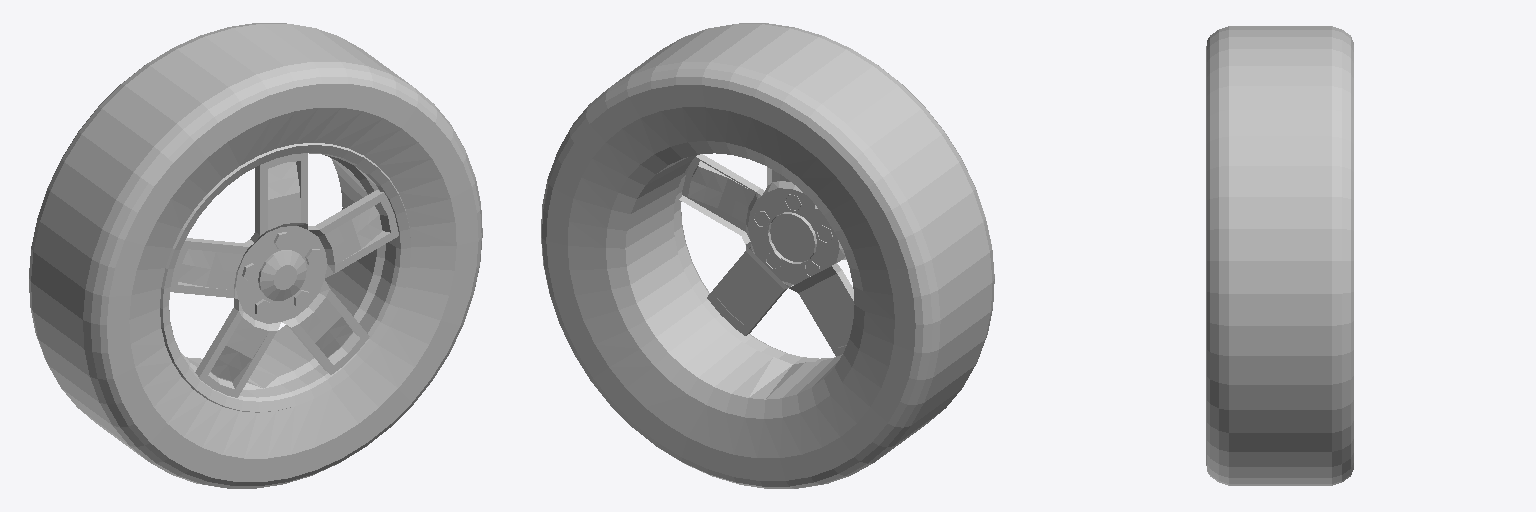
3 renders of one model, left to right at view 1: azimuth 30°, elevation 25°; view 2: azimuth 150°, elevation 25°; view 3: azimuth 270°, elevation 25°, orthographic.
Visible parts, largest first — view 1: J732_901B_R_J732_901B_R_3_DM, J732_901B_R_J732_901B_R_2_DaS, J732_901B_R_1_D_J732_901B_R; view 2: J732_901B_R_J732_901B_R_3_DM, J732_901B_R_J732_901B_R_2_DaS; view 3: J732_901B_R_J732_901B_R_3_DM.
Boxes of the visible parts, box(x1,y1,x2,y2) form: J732_901B_R_J732_901B_R_3_DM: box(29, 23, 482, 488); J732_901B_R_J732_901B_R_2_DaS: box(160, 143, 410, 412); J732_901B_R_1_D_J732_901B_R: box(258, 250, 306, 300); J732_901B_R_J732_901B_R_3_DM: box(541, 23, 994, 488); J732_901B_R_J732_901B_R_2_DaS: box(606, 141, 864, 418); J732_901B_R_J732_901B_R_3_DM: box(1206, 26, 1353, 485).
Bounding box in the file's own units: 91.87 × 91.87 × 29.62.